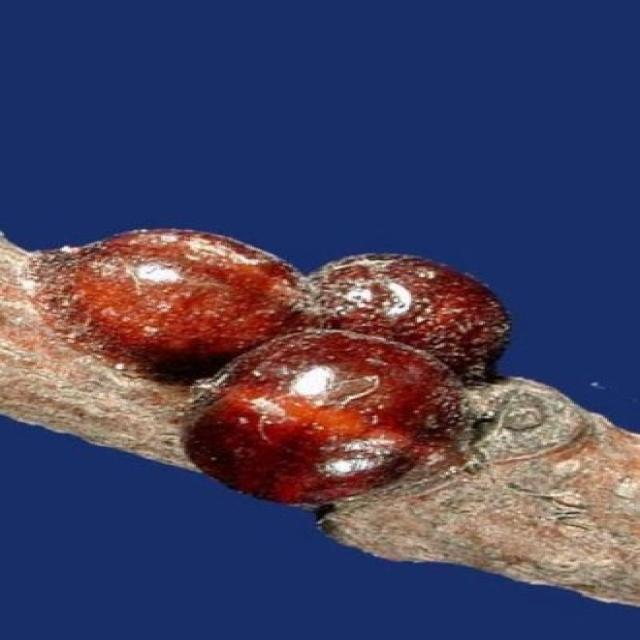Black Scale: (37, 230, 508, 505)
